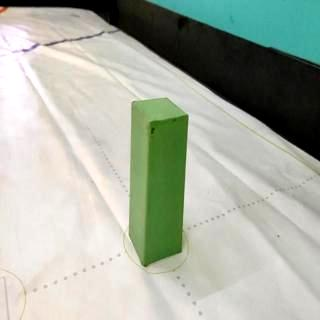greenbox: (128, 94, 190, 266)
